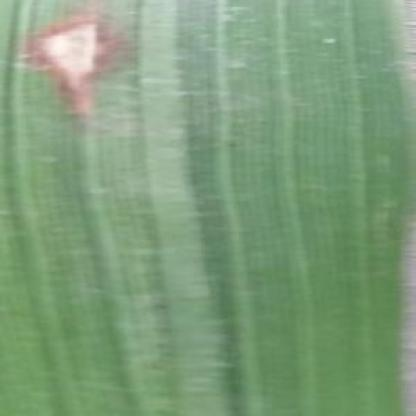Rice blast: (14, 10, 127, 111)
